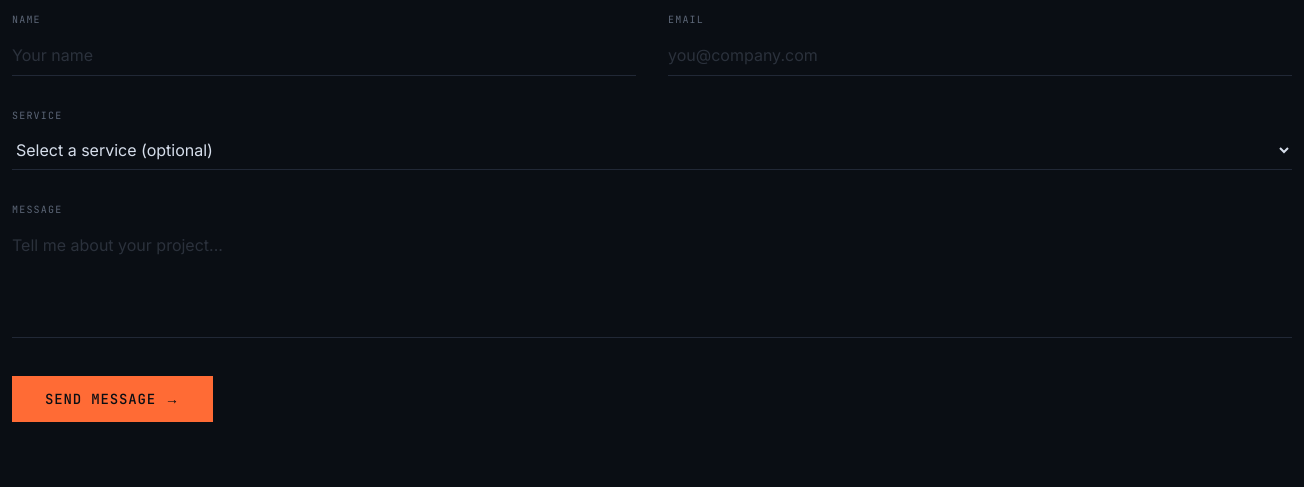
Test case: ContactForm › shows error message when API fails
The width and height of the screenshot is (1304, 487).
In the field labelled "Name": (324, 56) [12,35,636,76], type "John Doe"
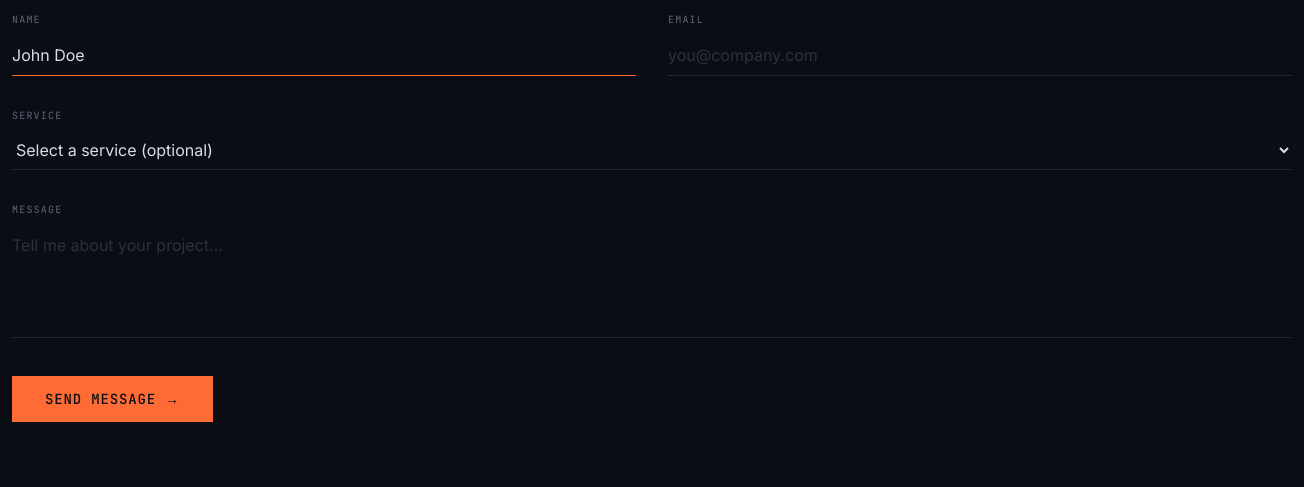
In the field with placeholder "you@company.com": (980, 56) [668,35,1292,76], type "john@example.com"
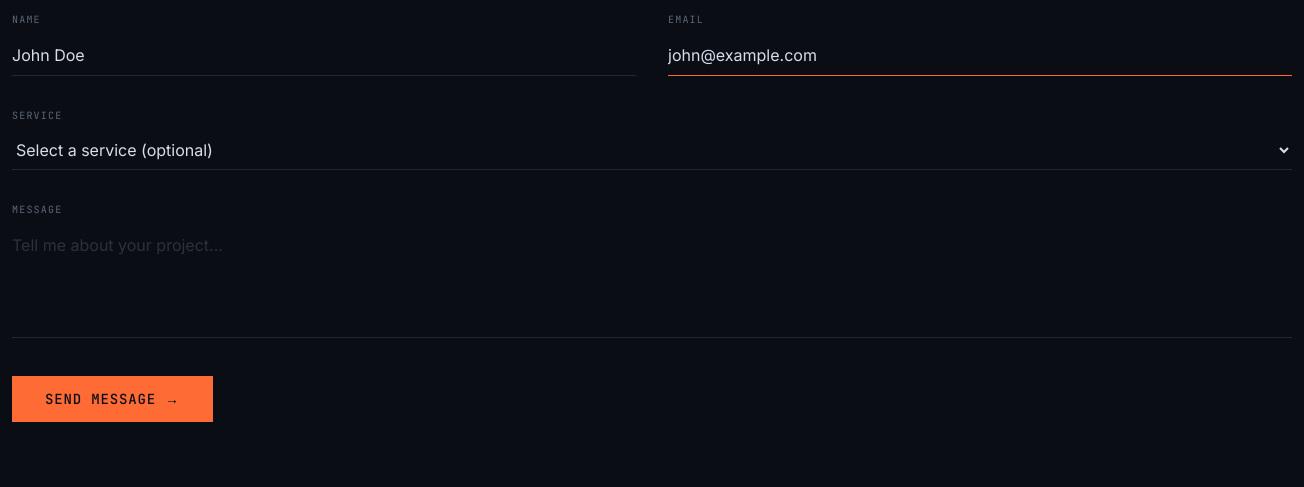
In the text box labelled "Message": (652, 282) [12,225,1292,338], type "Hello, I would like to hire you for a blog project."
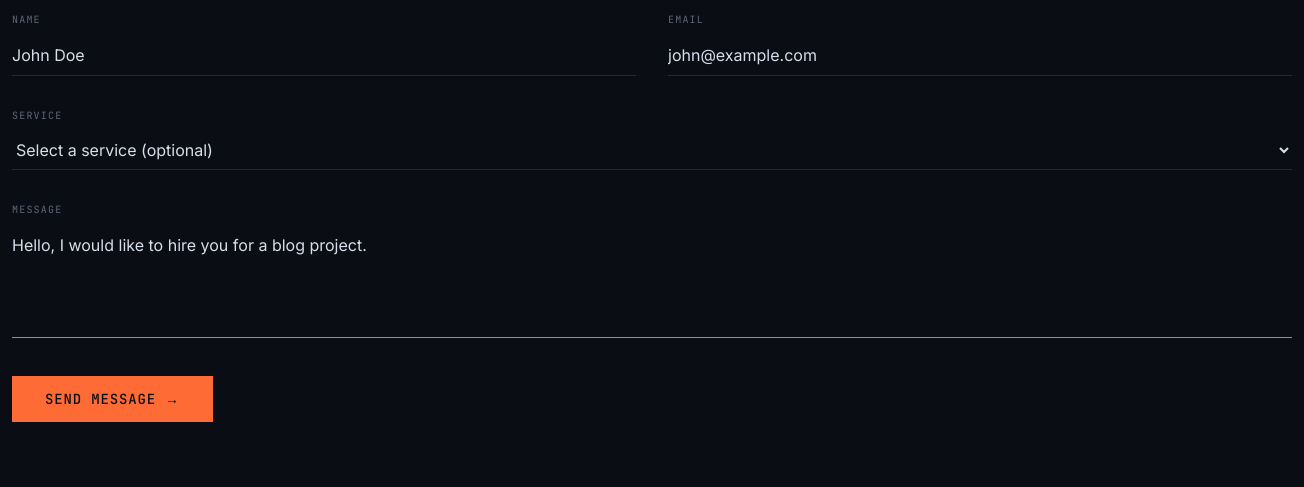
Click the button "Send message →": (112, 399) [12,376,213,422]
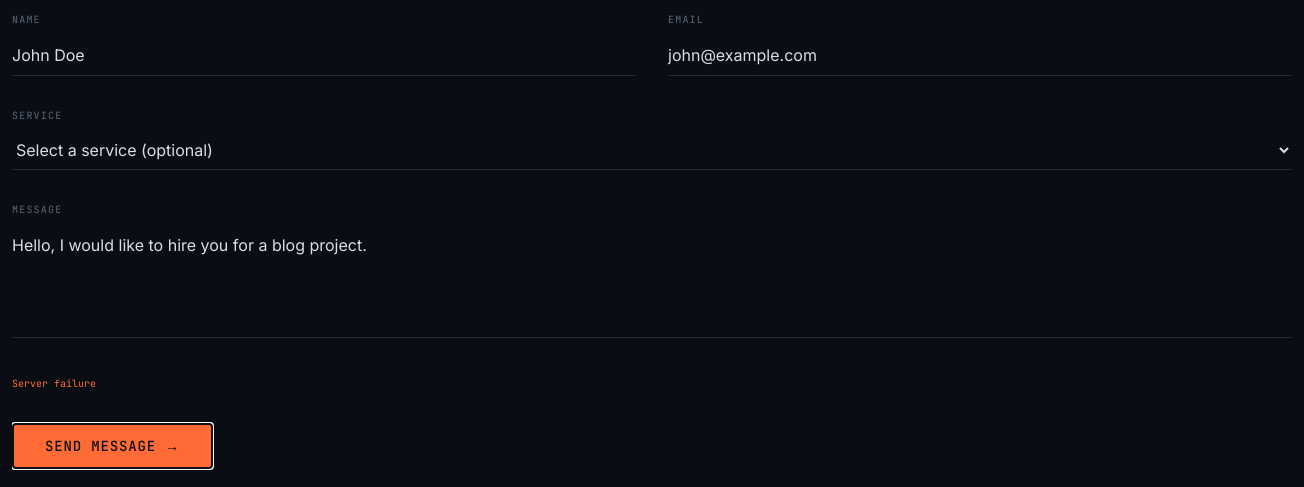
Now the text "Server failure" is shown, box [12,377,96,390]
